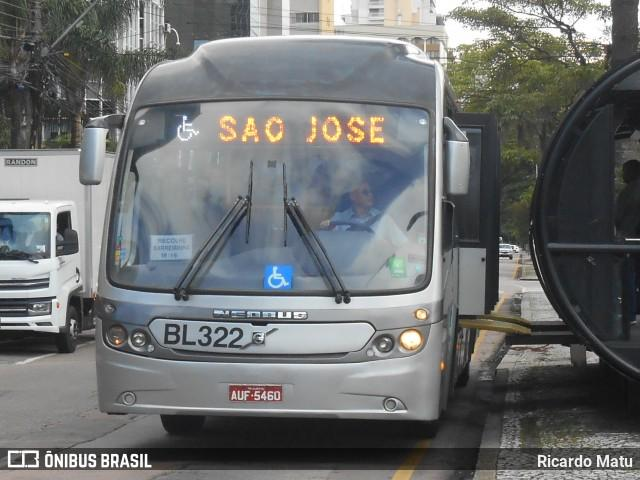SAO JOSE: (211, 109, 393, 147)
